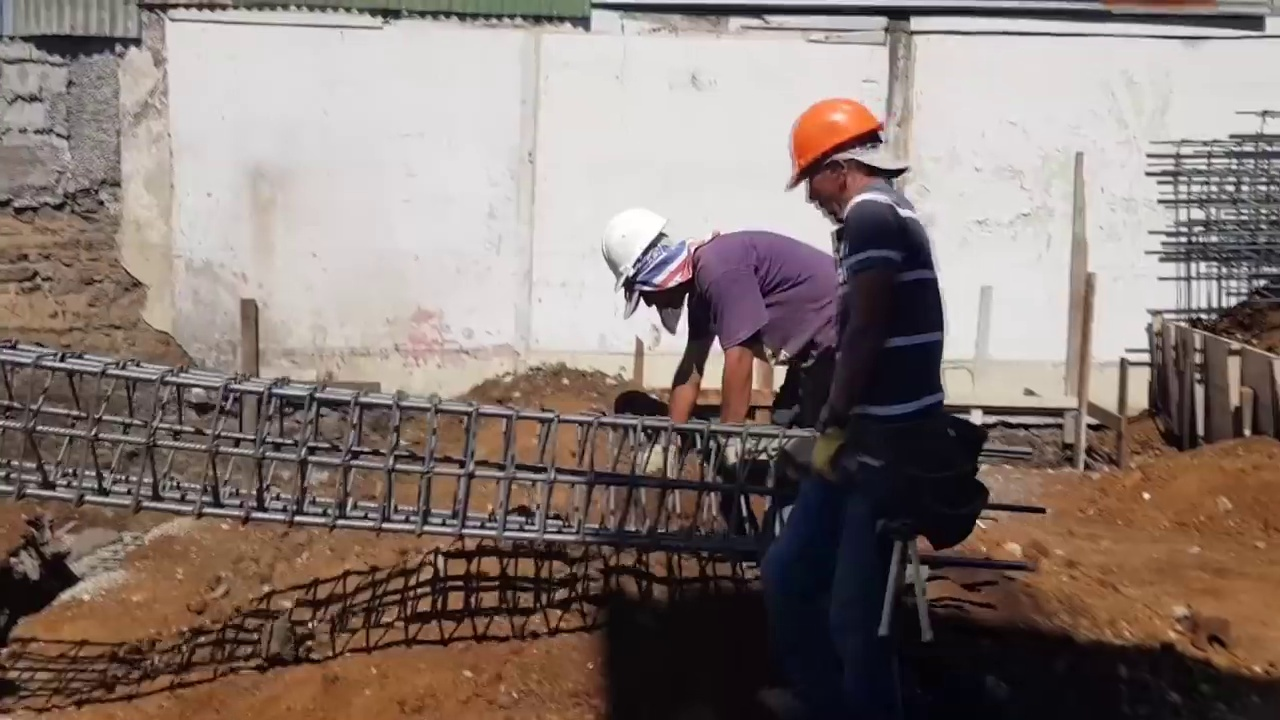helmet: (785, 92, 884, 183), (600, 214, 669, 295)
helmet-on: (598, 205, 701, 320)
person: (785, 92, 963, 667), (594, 208, 826, 469), (785, 92, 911, 225)
